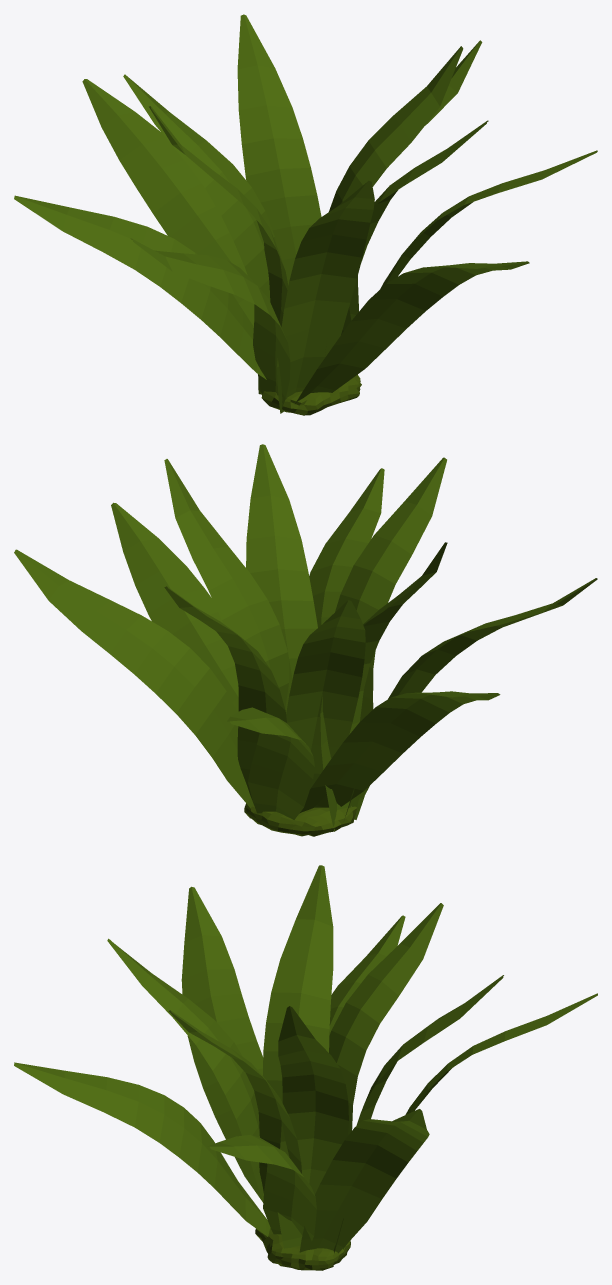
Rendered from Planta1.fbx.
3 views of the same model, one above another, from view 1: azimuth 30°, elevation 25°; view 2: azimuth 150°, elevation 25°; view 3: azimuth 270°, elevation 25° (orthographic). The views are drawn at different scales.
Visible parts, largest first — view 1: Cube; view 2: Cube; view 3: Cube.
Part boxes in pixels (x1,y1,x2,y2): Cube: (14, 14, 597, 415); Cube: (14, 444, 597, 836); Cube: (14, 865, 597, 1270).
Size of the model in its own units: 64.92 by 41.23 by 68.83.
